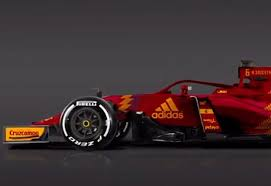f1_car: (1, 54, 271, 158)
